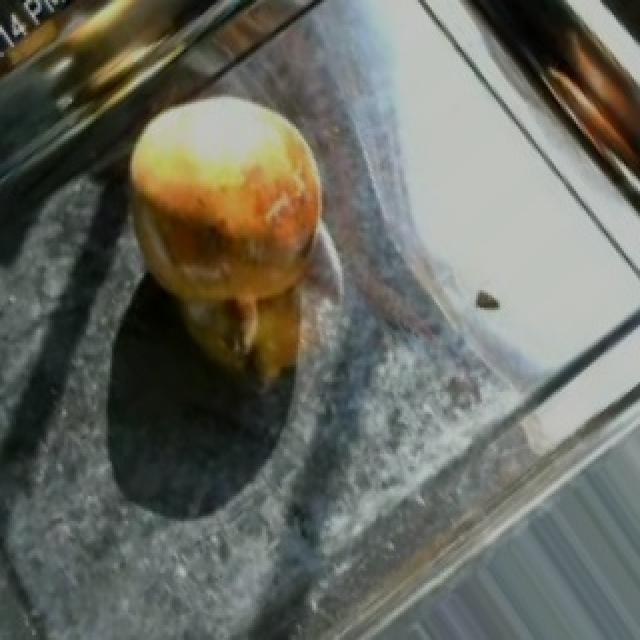fruit: (96, 67, 352, 337), (500, 0, 640, 184)
